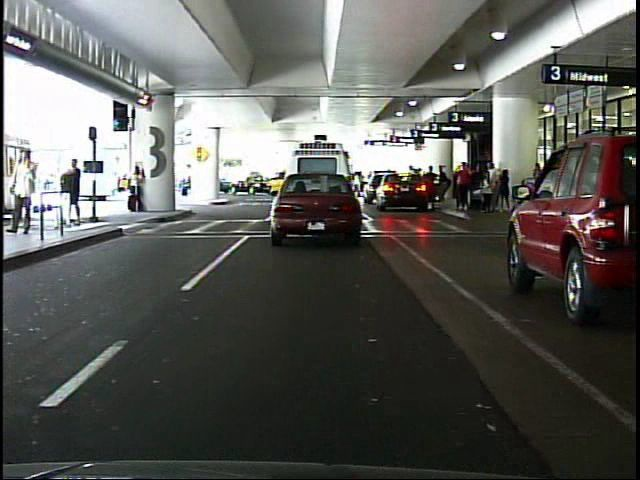person: (8, 149, 44, 242), (66, 155, 89, 230), (127, 162, 148, 214), (175, 161, 199, 203), (456, 162, 473, 213)
